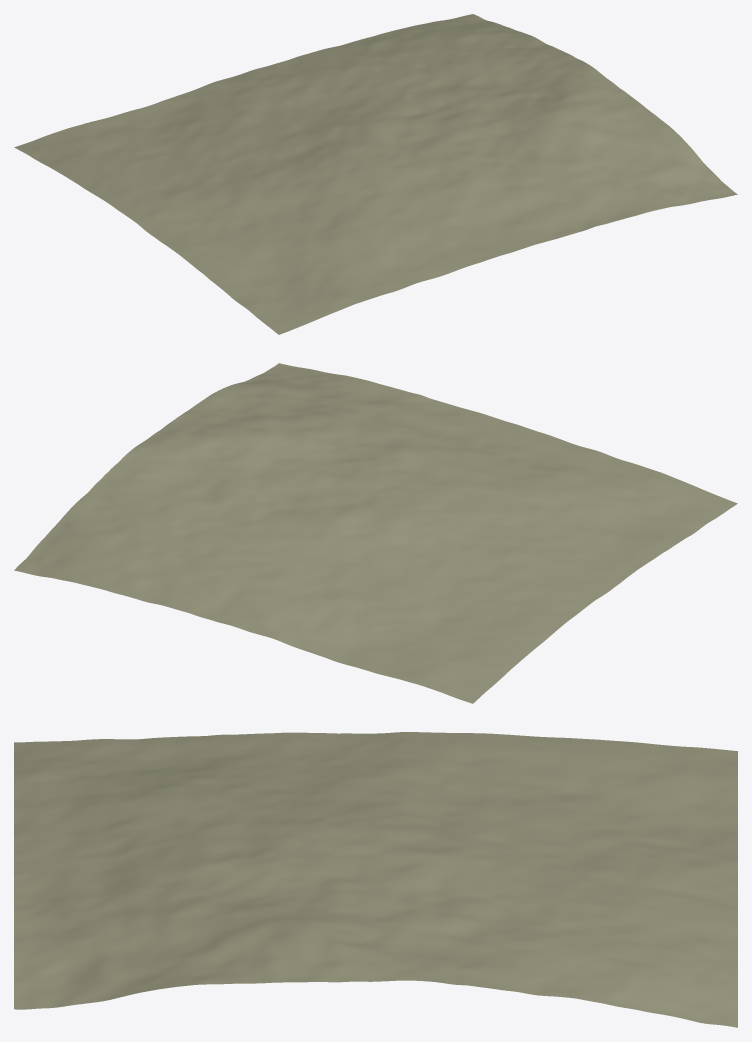
File: SM_VB_CityTerrain_9_5.fbx
3 views of the same model, one above another, from view 1: azimuth 30°, elevation 25°; view 2: azimuth 150°, elevation 25°; view 3: azimuth 270°, elevation 25° (orthographic). The views are drawn at different scales.
Parts seen in each view (by area): view 1: SM_VB_CityTerrain_9_5; view 2: SM_VB_CityTerrain_9_5; view 3: SM_VB_CityTerrain_9_5.
Part boxes in pixels (x1=…): SM_VB_CityTerrain_9_5: x1=14, y1=14, x2=737, y2=334; SM_VB_CityTerrain_9_5: x1=14, y1=363, x2=737, y2=703; SM_VB_CityTerrain_9_5: x1=14, y1=732, x2=737, y2=1027.
Bounding box in the file's own units: 600 × 72.98 × 600.
